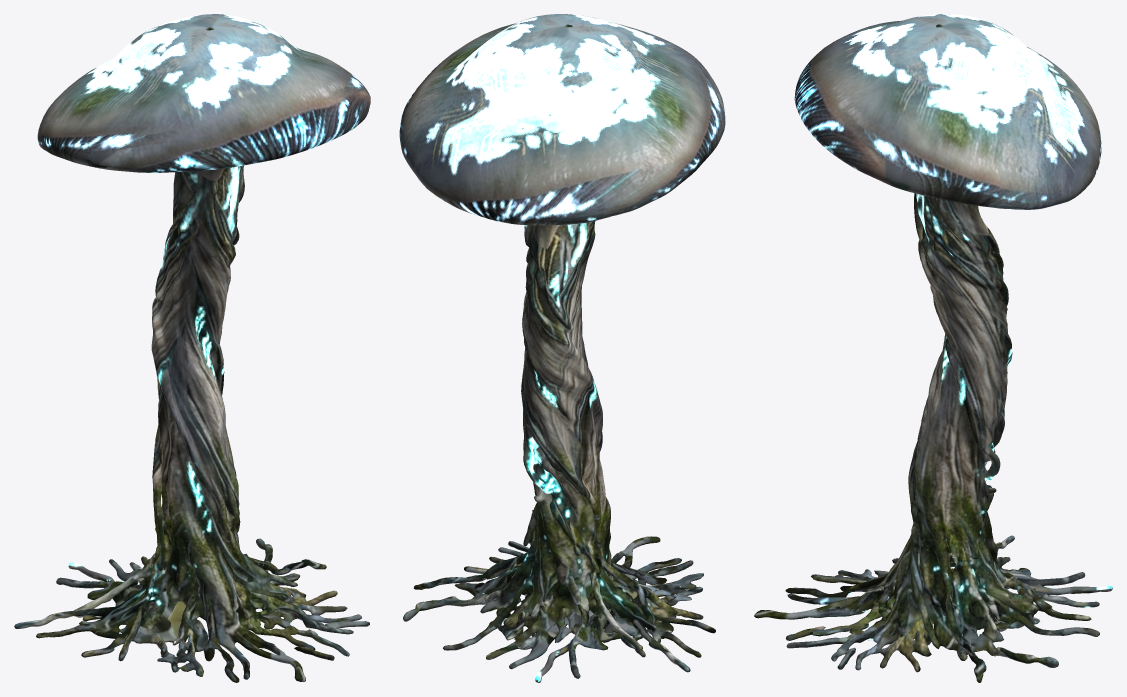
Rendered from bio_tall_mushroom.glb.
The picture shows the model from 3 angles, left to right: view 1: azimuth 30°, elevation 25°; view 2: azimuth 150°, elevation 25°; view 3: azimuth 270°, elevation 25°; orthographic projection.
Parts seen in each view (by area): view 1: geometry_0; view 2: geometry_0; view 3: geometry_0.
Boxes of the visible parts, bbox=[...] form: geometry_0: bbox=[14, 14, 370, 682]; geometry_0: bbox=[399, 14, 725, 682]; geometry_0: bbox=[754, 14, 1112, 682].
Bounding box in the file's own units: 1.73 × 3.2 × 1.76.
1 material, 1 textured.
